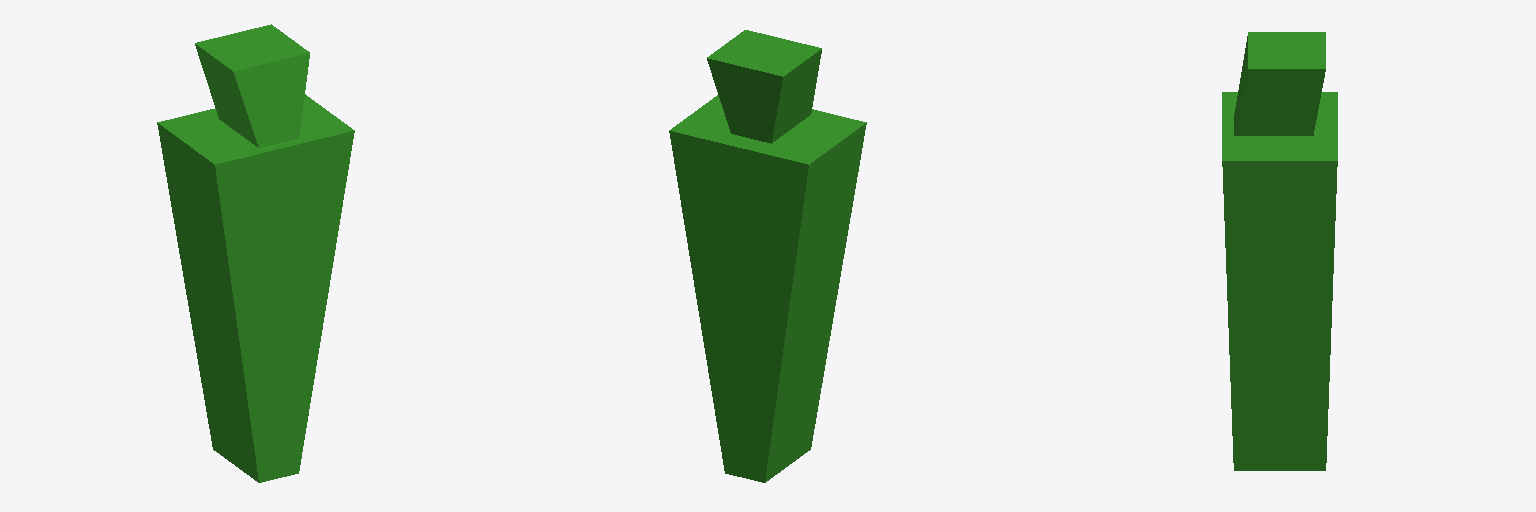
File: sentinel.obj
3 renders of one model, left to right at view 1: azimuth 30°, elevation 25°; view 2: azimuth 150°, elevation 25°; view 3: azimuth 270°, elevation 25°, orthographic.
Visible parts, largest first — view 1: Cube, Cube.001; view 2: Cube, Cube.001; view 3: Cube, Cube.001.
Boxes of the visible parts, x1=… form: Cube: x1=157, y1=94, x2=354, y2=482; Cube.001: x1=195, y1=24, x2=309, y2=147; Cube: x1=669, y1=95, x2=866, y2=482; Cube.001: x1=707, y1=30, x2=821, y2=143; Cube: x1=1222, y1=92, x2=1337, y2=470; Cube.001: x1=1234, y1=32, x2=1325, y2=135.
Bounding box in the file's own units: 0.7 × 1.96 × 0.5.